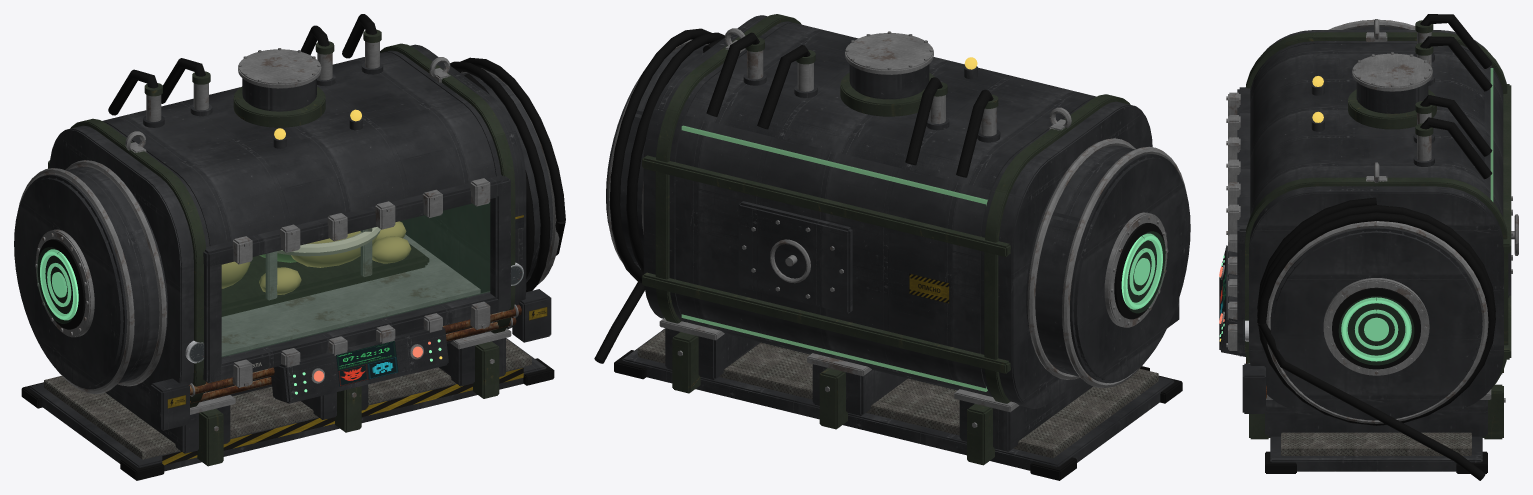
Rendered from capsule_bowser.gltf.
3 renders of one model, left to right at view 1: azimuth 30°, elevation 25°; view 2: azimuth 150°, elevation 25°; view 3: azimuth 270°, elevation 25°, orthographic. The views are drawn at different scales.
Visible parts, largest first — view 1: Body, Glass, Screen, Port; view 2: Body, Port; view 3: Body, Port.
Part boxes in pixels (x1=…): Body: x1=14, y1=14, x2=565, y2=480; Glass: x1=222, y1=202, x2=489, y2=356; Screen: x1=336, y1=341, x2=398, y2=386; Port: x1=40, y1=249, x2=78, y2=320; Body: x1=594, y1=14, x2=1190, y2=480; Port: x1=1121, y1=233, x2=1162, y2=309; Body: x1=1219, y1=14, x2=1518, y2=480; Port: x1=1341, y1=297, x2=1411, y2=361.
Bounding box in the file's own units: 4.87 × 3.22 × 2.82.
Materials: 24 (12 with a texture image).
